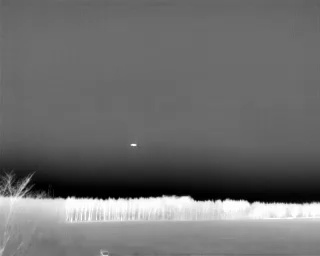DRONE: (128, 140, 140, 151)
